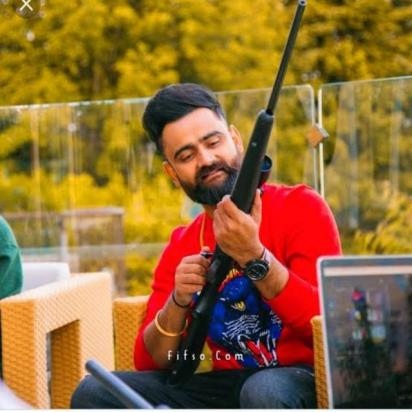Gun: (164, 0, 306, 389)
